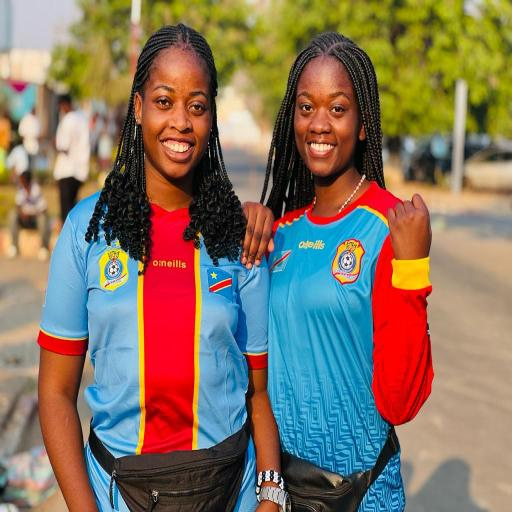LAURENE: (282, 24, 388, 203)
